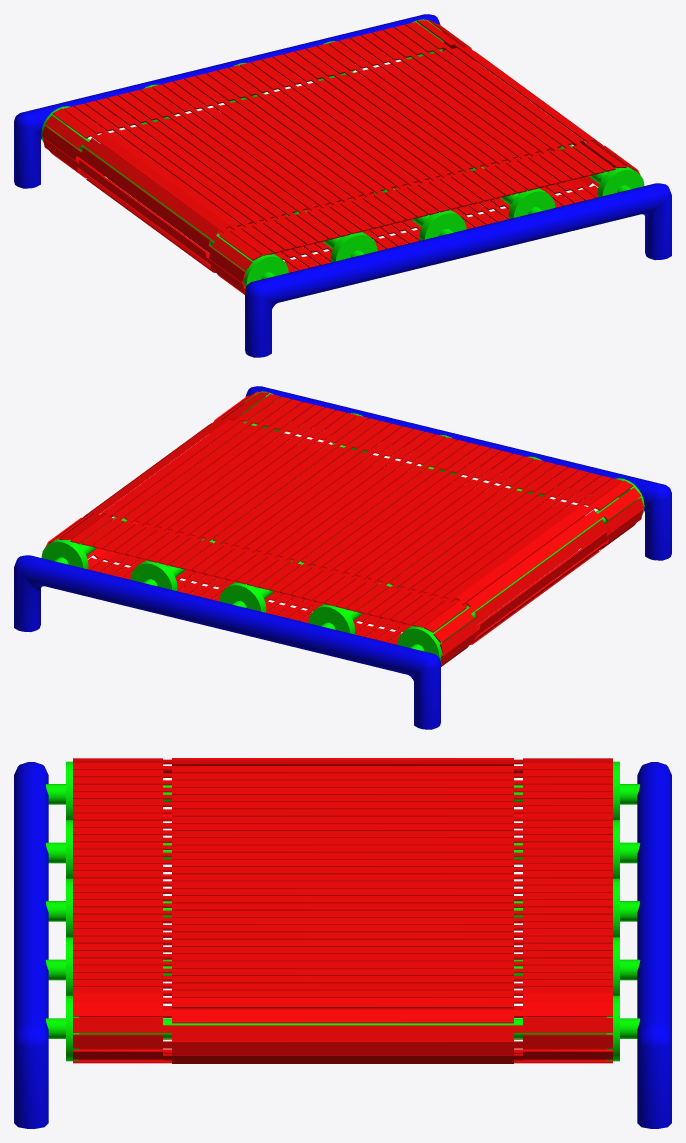
Rendered from ConveyorBelt.fbx.
3 renders of one model, top to bottom at view 1: azimuth 30°, elevation 25°; view 2: azimuth 150°, elevation 25°; view 3: azimuth 270°, elevation 25°, orthographic. The views are drawn at different scales.
Parts seen in each view (by area): view 1: transform4; view 2: transform4; view 3: transform4.
Part boxes in pixels (<box>): transform4: <box>14,14,671,357</box>; transform4: <box>14,386,671,729</box>; transform4: <box>14,758,671,1128</box>.
Bounding box in the file's own units: 0.95 × 0.1776 × 0.95.
